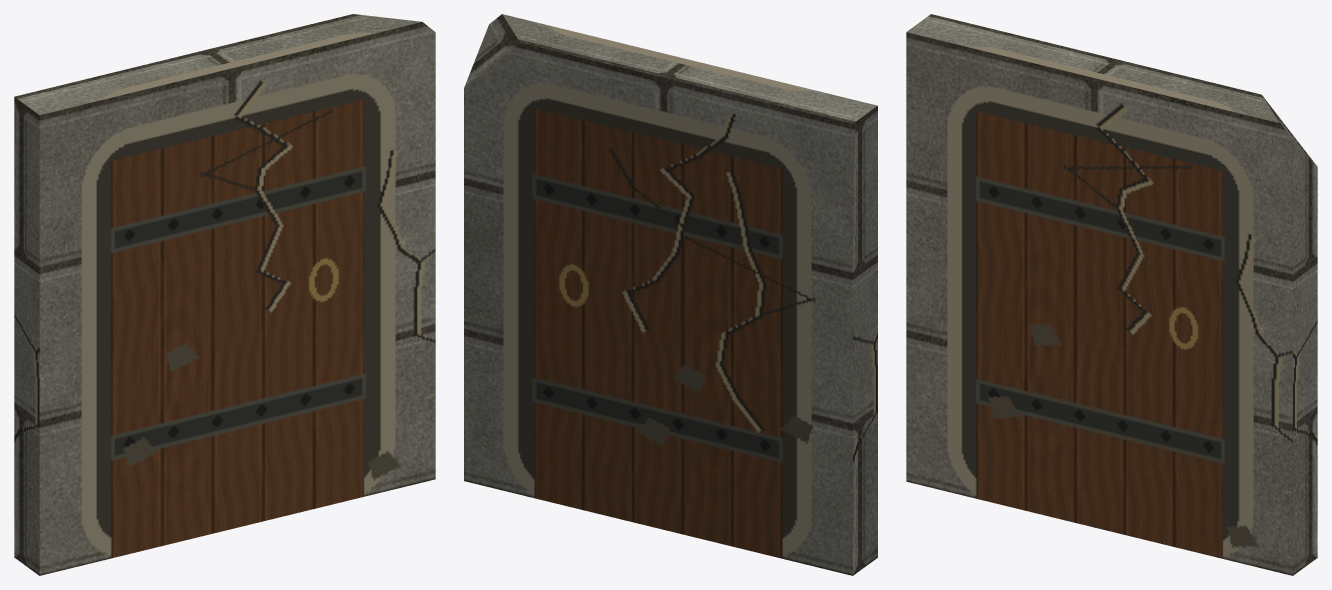
File: door_z1.glb
3 views of the same model, side by side, from view 1: azimuth 30°, elevation 25°; view 2: azimuth 150°, elevation 25°; view 3: azimuth 330°, elevation 25° (orthographic). The views are drawn at different scales.
Parts seen in each view (by area): view 1: door_z1; view 2: door_z1; view 3: door_z1.
Part boxes in pixels (bbox=[...]): door_z1: bbox=[14, 14, 435, 575]; door_z1: bbox=[464, 14, 877, 575]; door_z1: bbox=[906, 14, 1317, 575].
Size of the model in its own units: 0.9 by 1 by 0.1.
1 material, 1 textured.
